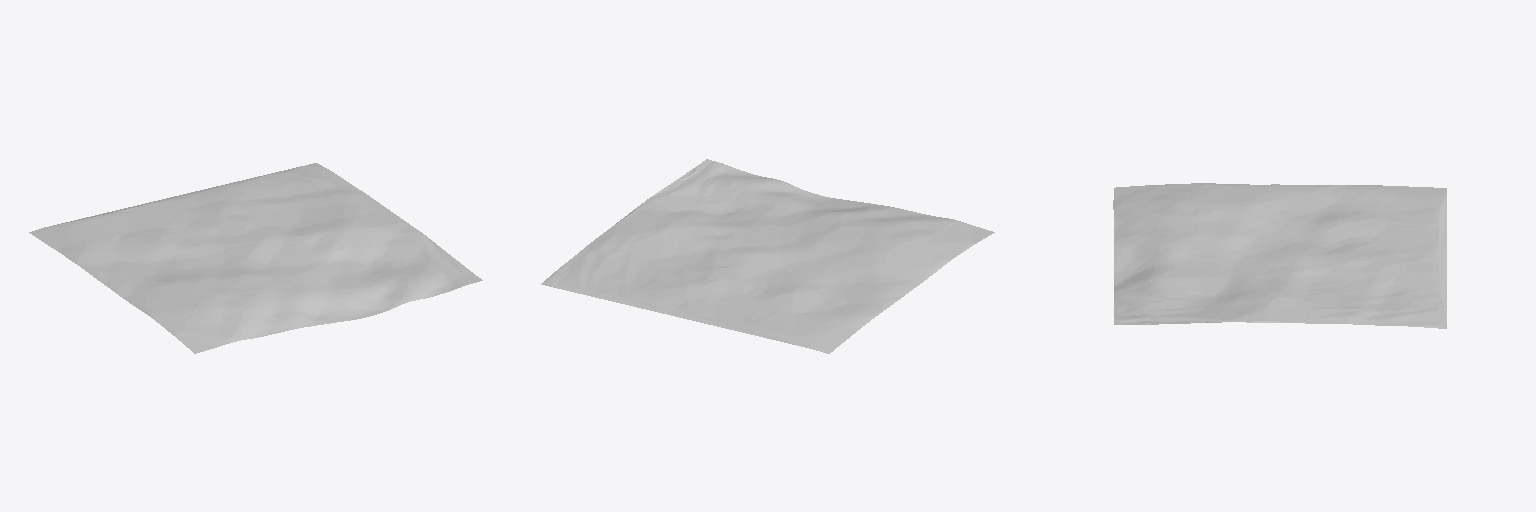
Rendered from Forest2.obj.
The picture shows the model from 3 angles: view 1: azimuth 30°, elevation 25°; view 2: azimuth 150°, elevation 25°; view 3: azimuth 270°, elevation 25°; orthographic projection.
Visible parts, largest first — view 1: Plane; view 2: Plane; view 3: Plane.
Boxes of the visible parts, x1=… form: Plane: x1=29, y1=163, x2=482, y2=353; Plane: x1=541, y1=159, x2=994, y2=353; Plane: x1=1113, y1=183, x2=1446, y2=328.
Size of the model in its own units: 32.02 by 1.6 by 32.02.